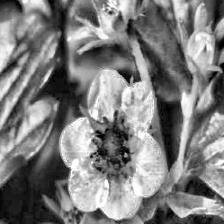Blossom Blight: (88, 107, 140, 185)
